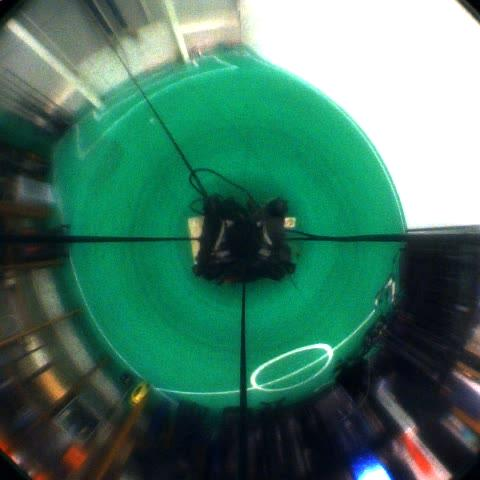ball: (130, 383, 149, 403)
goal: (6, 19, 104, 109), (164, 1, 191, 64)
person: (84, 0, 117, 48), (105, 0, 139, 39)
robot: (0, 67, 72, 140)
